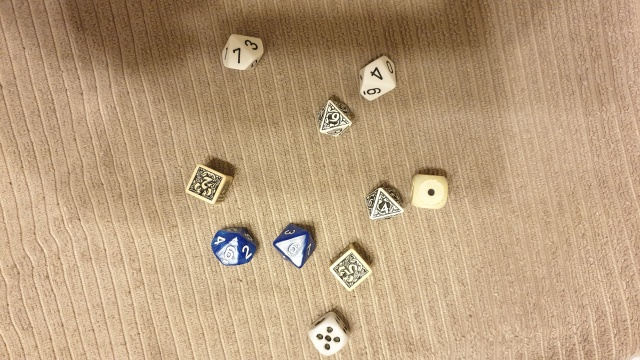d10-4: (358, 50, 398, 106)
d10-6: (267, 219, 317, 272), (209, 223, 258, 272)
d10-7: (215, 30, 267, 76)
d6-1: (406, 170, 449, 211)
d6-5: (305, 310, 352, 357)
d6p-2: (182, 160, 233, 208)
d6p-5: (326, 241, 375, 295)
d8p-4: (363, 180, 403, 225)
d8p-6: (315, 96, 354, 141)
